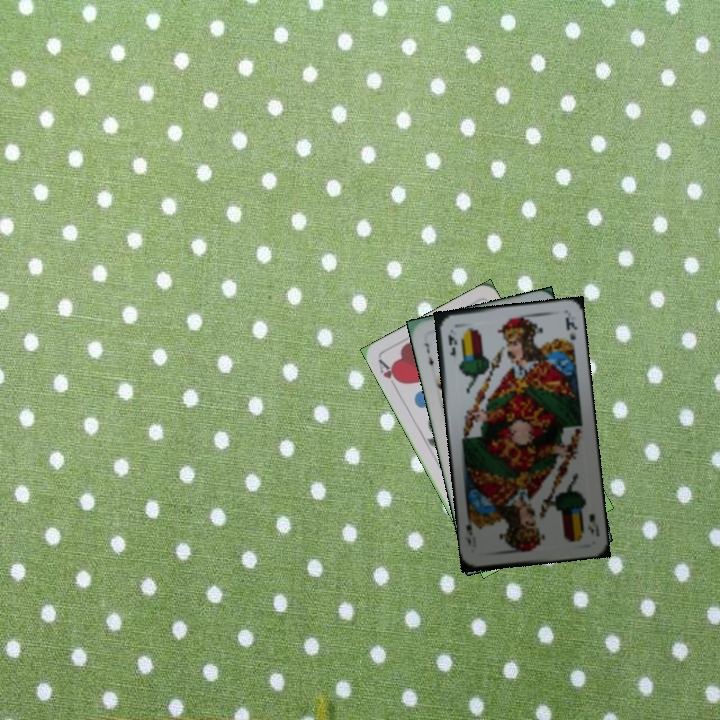E7: (420, 339, 436, 373)
EK: (584, 510, 602, 539), (444, 330, 459, 359)
HA: (374, 355, 404, 393)
